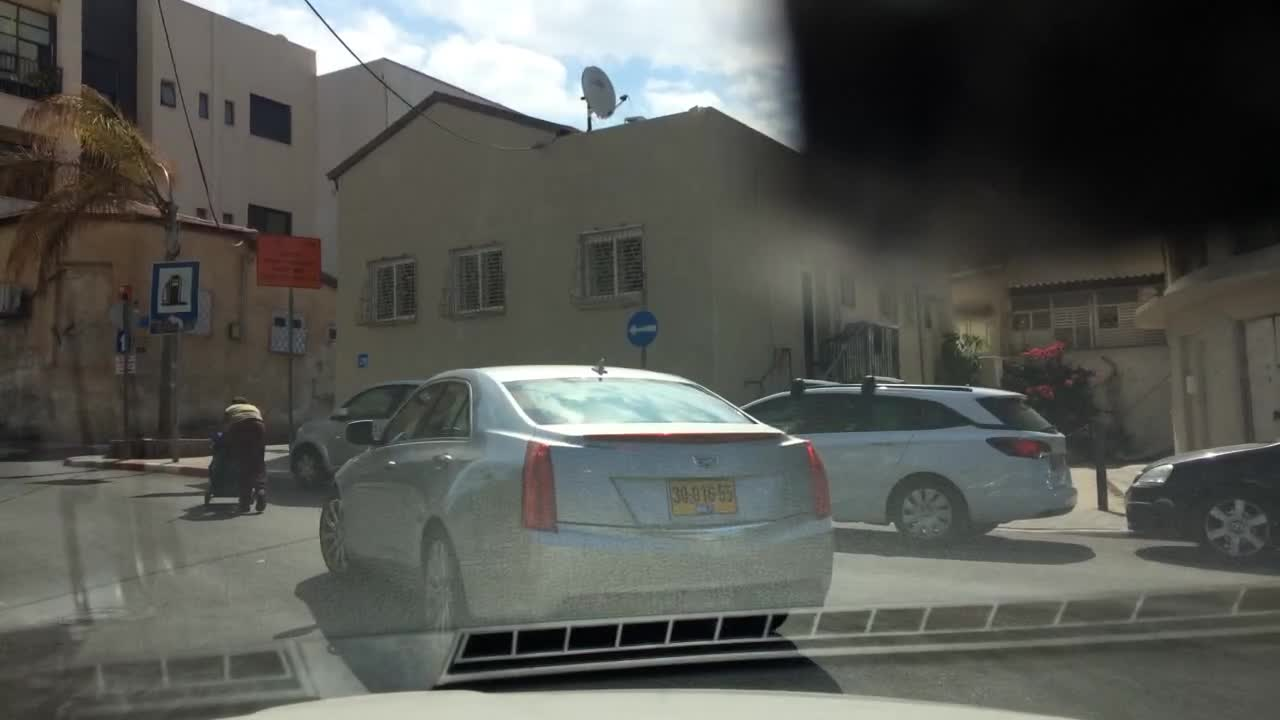car: (319, 354, 835, 665), (739, 374, 1076, 543), (1124, 439, 1279, 565), (287, 380, 427, 493)
person: (214, 395, 268, 511)
traffic sign: (253, 233, 322, 287), (148, 260, 197, 332), (626, 307, 656, 346), (113, 354, 135, 376), (113, 329, 133, 353)
